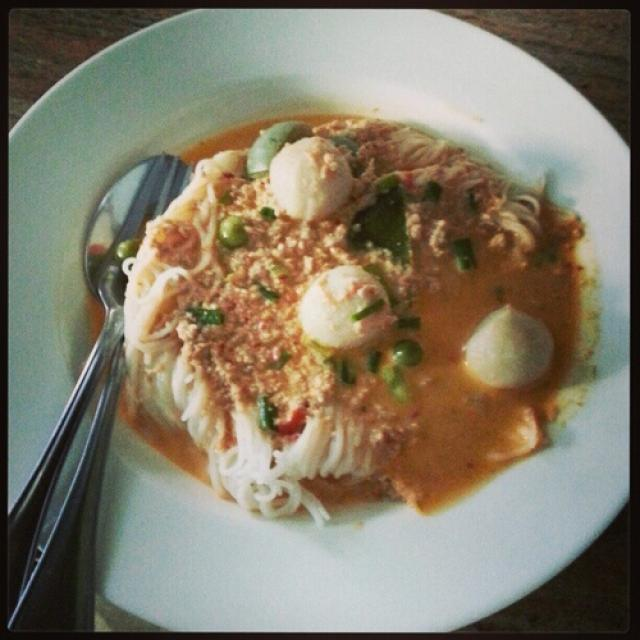面条主食: (16, 16, 620, 624)
